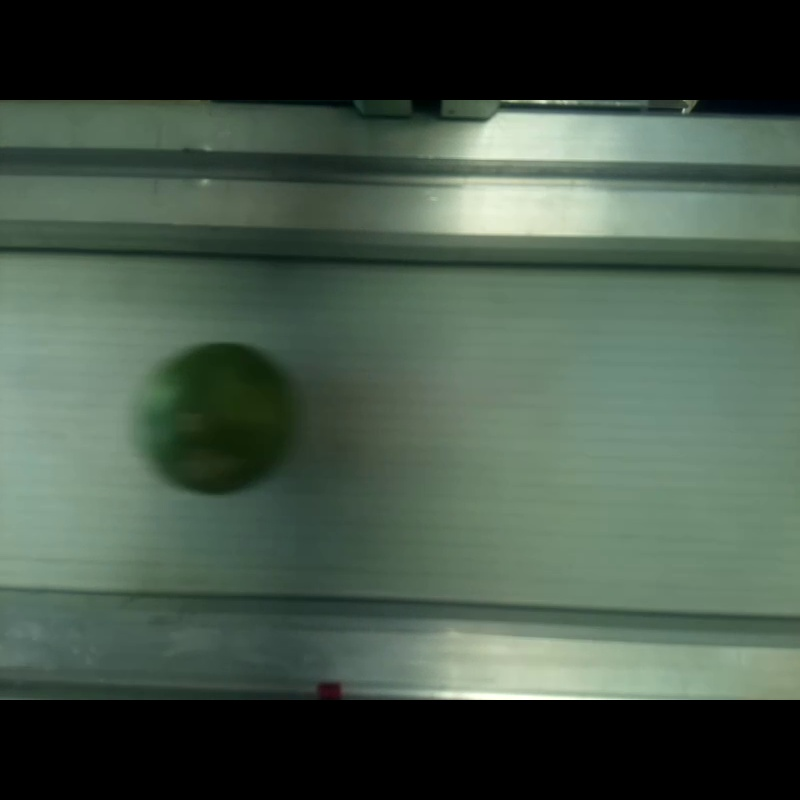lime: (140, 342, 297, 493)
